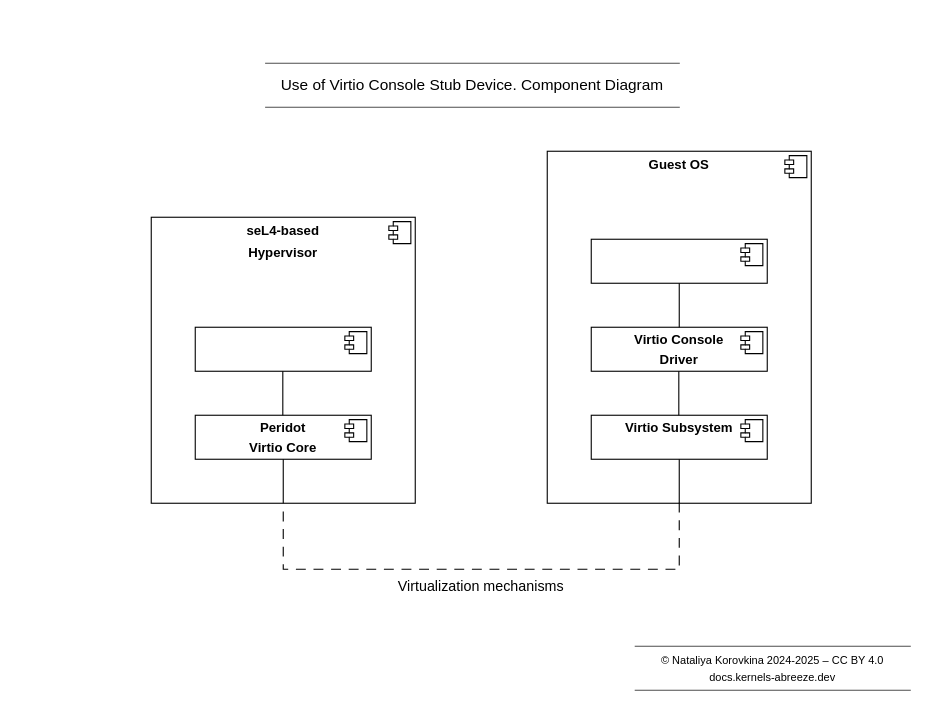
This 939x719 diagram has some shape labels left out. Each missing label, with the centre of its shape:
Peridot Virtio Console Stub Device: [282,348]
User Space App: [678,260]
